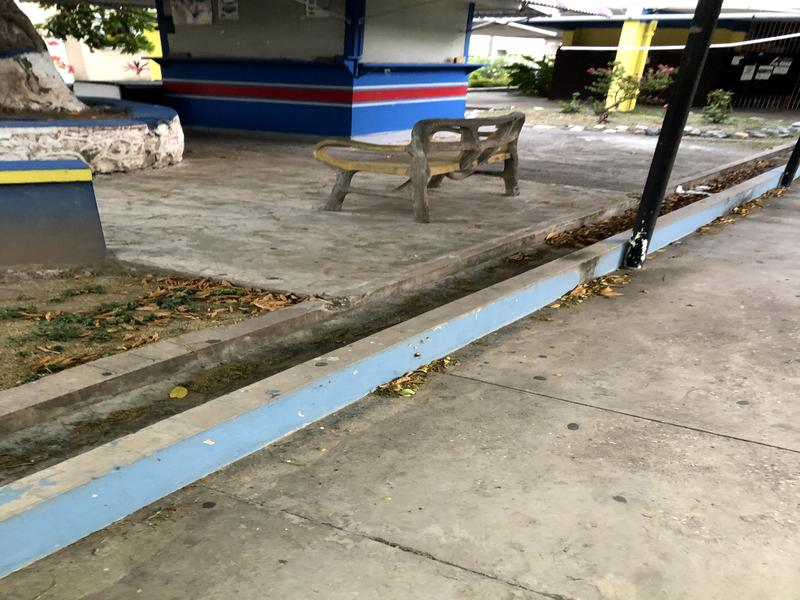18.0050864_-76.7496363_bench: (301, 100, 543, 235)
